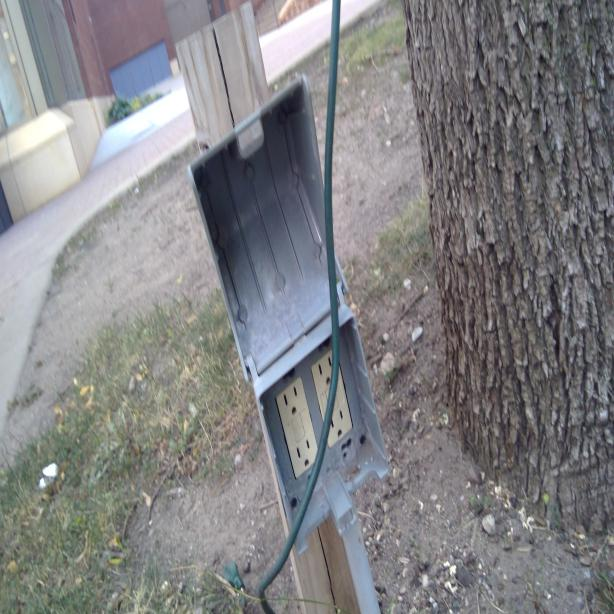typeb: (279, 382, 302, 424), (292, 439, 314, 472), (329, 410, 350, 444), (312, 355, 333, 388)
